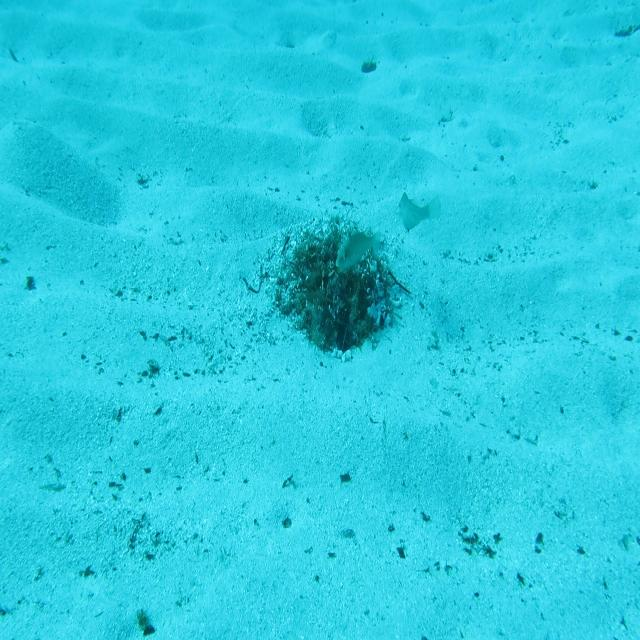BK_SW: (332, 220, 383, 271)
female: (394, 188, 442, 238)
nest: (287, 222, 412, 359)
